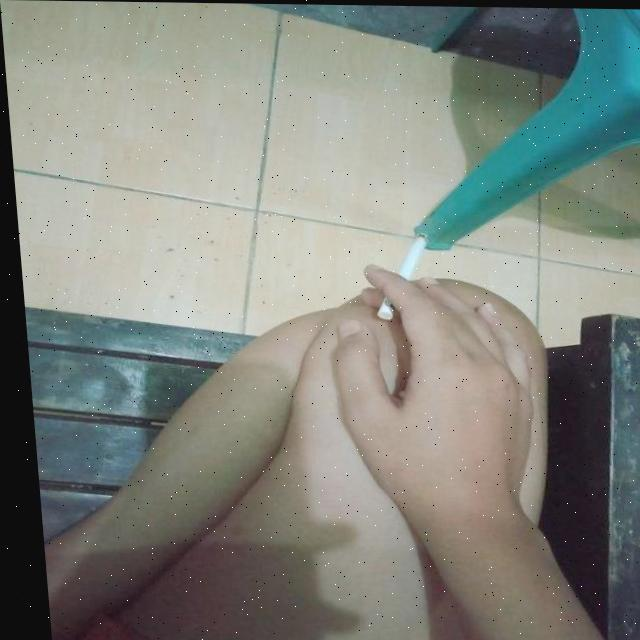cigarette: (366, 230, 430, 319)
